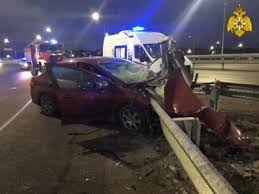car: (23, 39, 205, 140)
